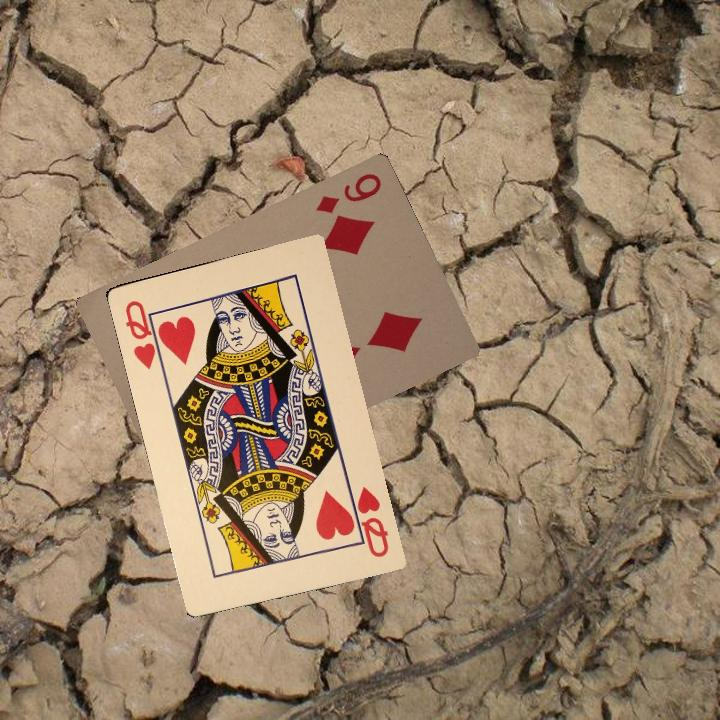9d: (311, 169, 384, 216)
Qh: (344, 482, 392, 560), (121, 296, 166, 372)
